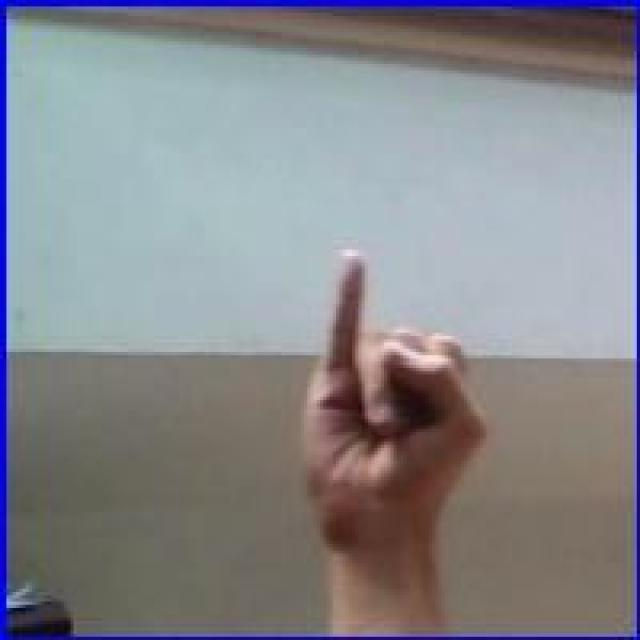I: (288, 238, 499, 588)
